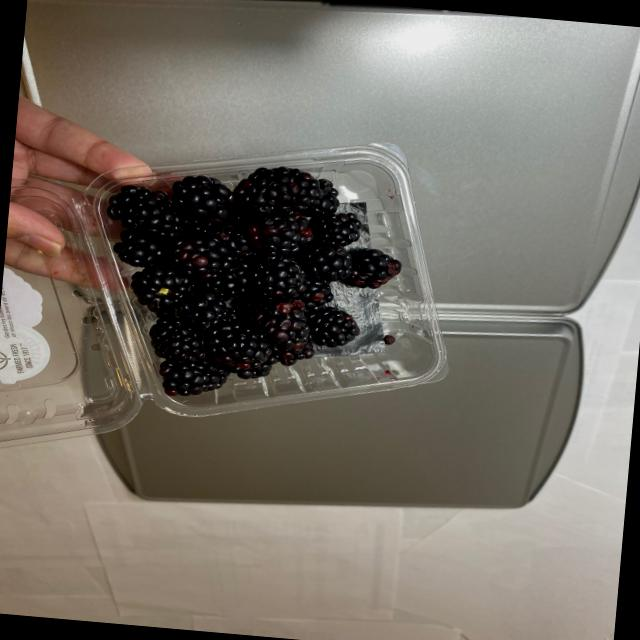blackberries: (137, 150, 410, 432)
